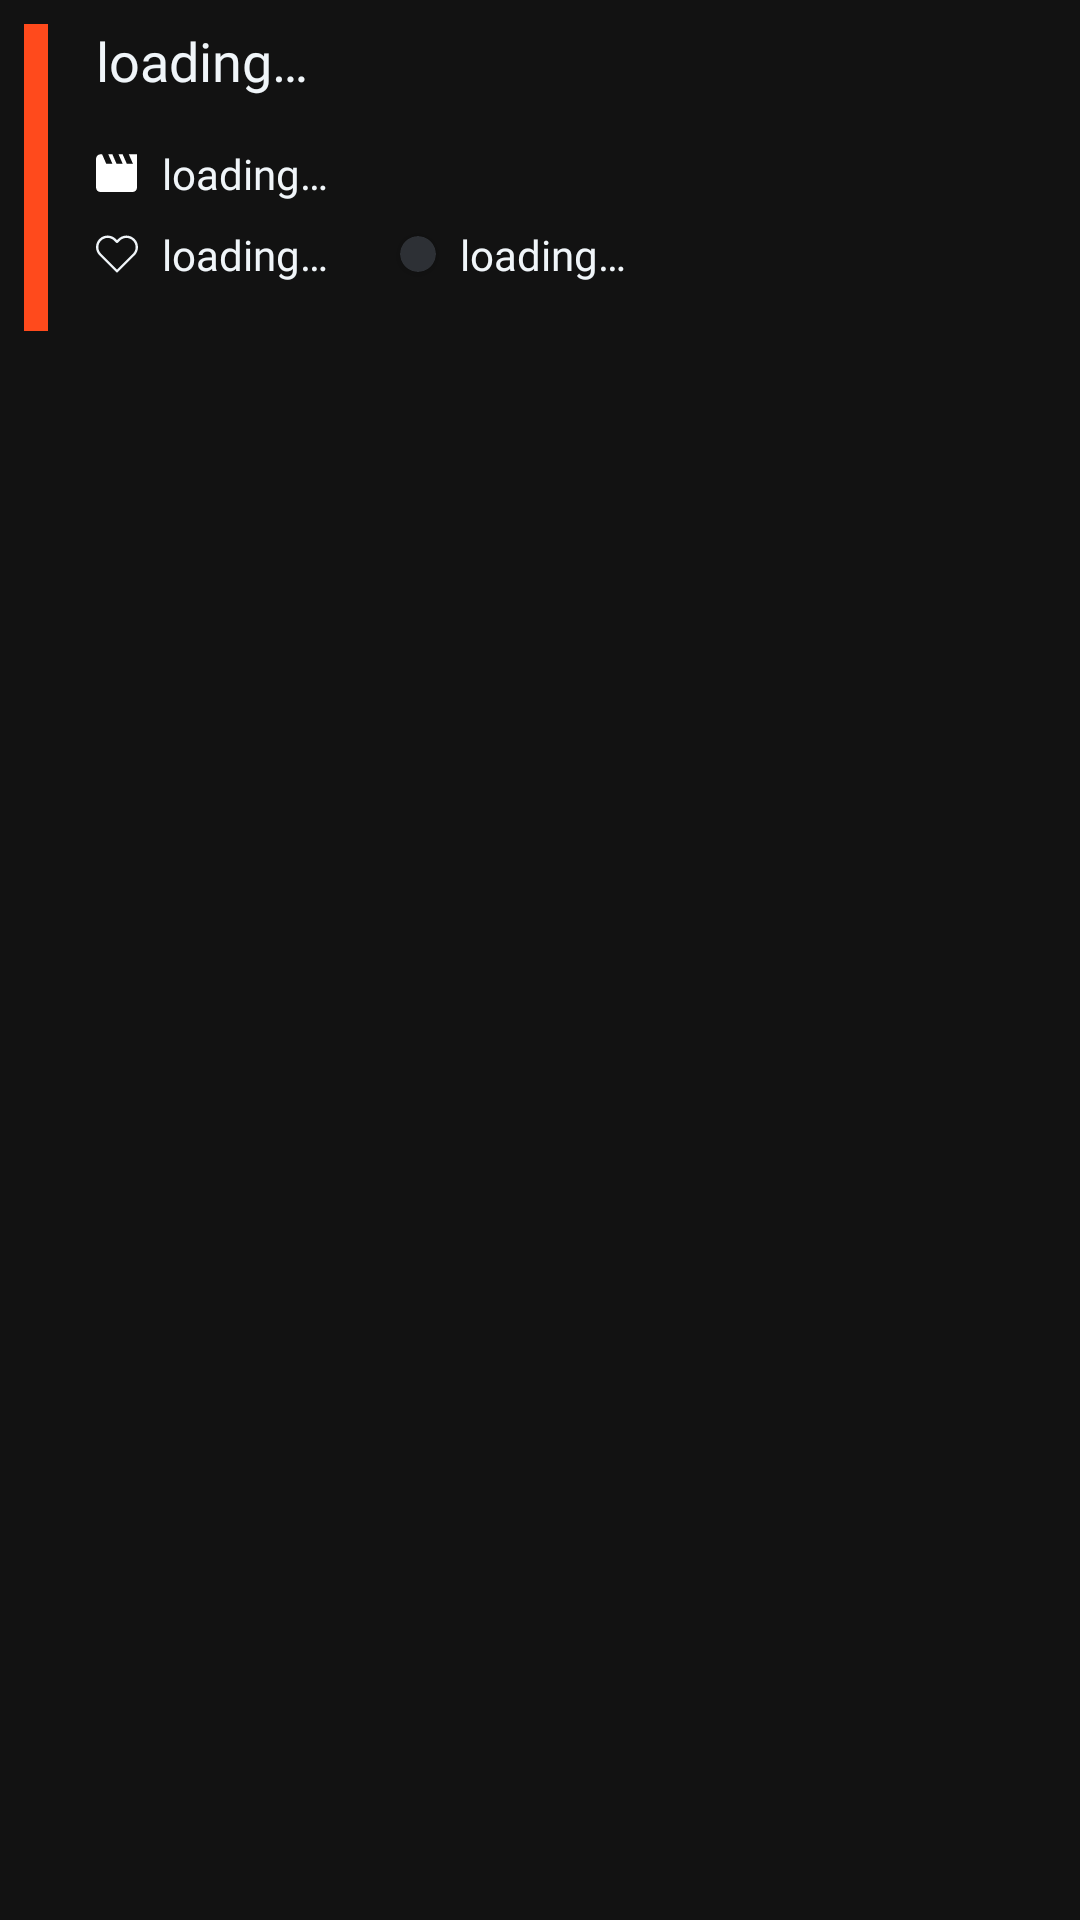

Screen size 1080 × 1920. Icon name, then its center in pixels as [x,y]:
fav: [117,254]
movie: [116,173]
